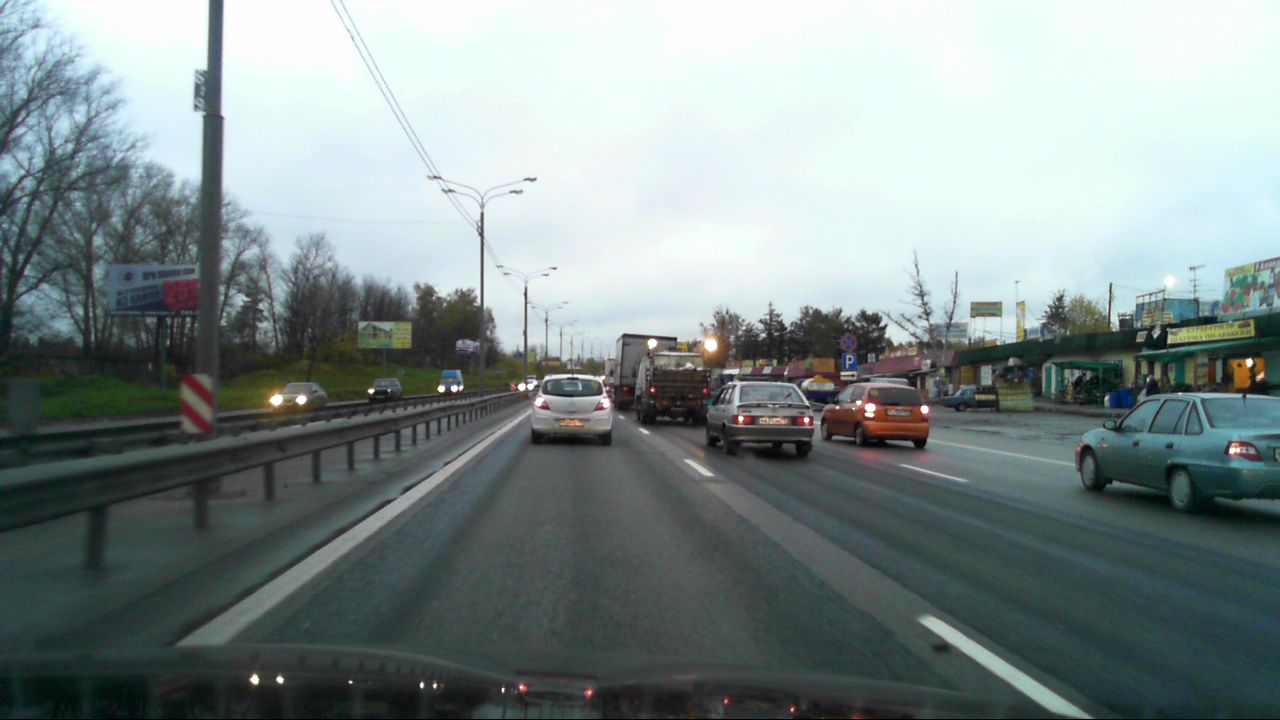No Parking: (839, 333, 857, 351)
